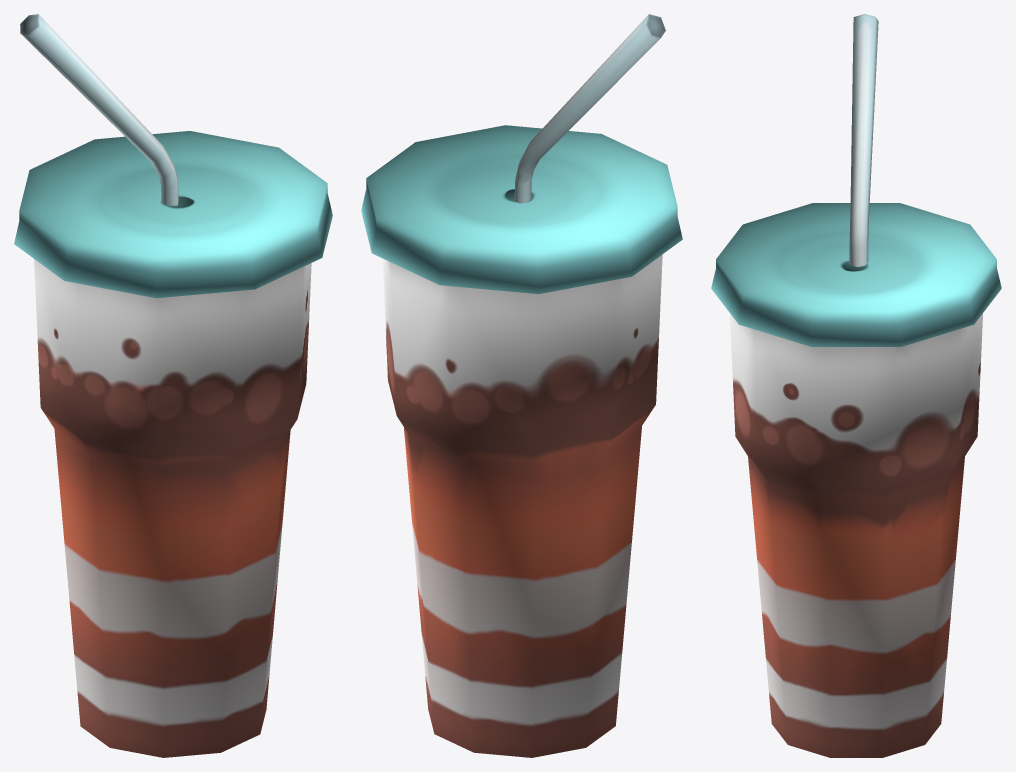
The model's file is Milkcoctail.fbx.
3 renders of one model, left to right at view 1: azimuth 30°, elevation 25°; view 2: azimuth 150°, elevation 25°; view 3: azimuth 270°, elevation 25°, orthographic. The views are drawn at different scales.
Visible parts, largest first — view 1: NurbsPath; view 2: NurbsPath; view 3: NurbsPath.
Part boxes in pixels (bbox=[...]): NurbsPath: bbox=[14, 14, 332, 757]; NurbsPath: bbox=[361, 14, 682, 757]; NurbsPath: bbox=[711, 14, 1001, 757].
Size of the model in its own units: 166 by 416 by 168.
